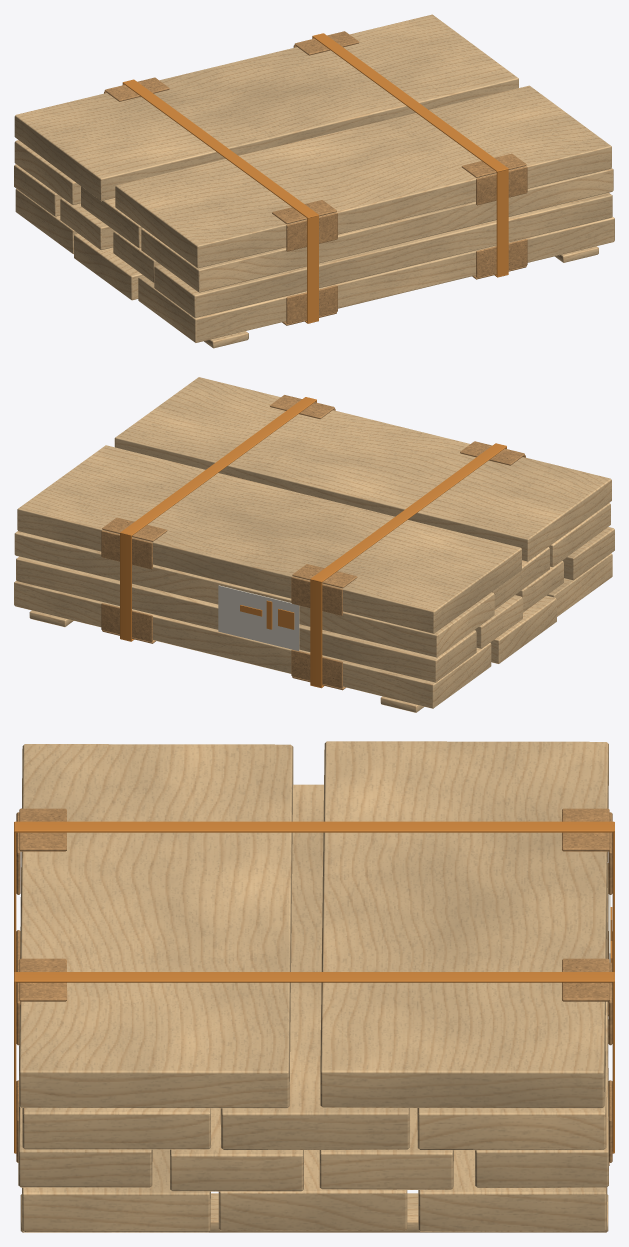
File: Holzpaket01.glb
3 views of the same model, one above another, from view 1: azimuth 30°, elevation 25°; view 2: azimuth 150°, elevation 25°; view 3: azimuth 270°, elevation 25° (orthographic). The views are drawn at different scales.
Parts seen in each view (by area): view 1: Holzpaket01__WoodRaw, Holzpaket01__SafetyOrange, Holzpaket01__Cardboard; view 2: Holzpaket01__WoodRaw, Holzpaket01__SafetyOrange, Holzpaket01__Cardboard, Holzpaket01__WallWhite; view 3: Holzpaket01__WoodRaw, Holzpaket01__SafetyOrange, Holzpaket01__Cardboard.
Part boxes in pixels (x1=…): Holzpaket01__WoodRaw: x1=14, y1=14, x2=614, y2=348; Holzpaket01__SafetyOrange: x1=122, y1=33, x2=508, y2=323; Holzpaket01__Cardboard: x1=104, y1=31, x2=527, y2=325; Holzpaket01__WoodRaw: x1=14, y1=377, x2=614, y2=712; Holzpaket01__SafetyOrange: x1=120, y1=397, x2=506, y2=688; Holzpaket01__Cardboard: x1=101, y1=395, x2=525, y2=690; Holzpaket01__WallWhite: x1=218, y1=585, x2=299, y2=650; Holzpaket01__WoodRaw: x1=18, y1=741, x2=608, y2=1232; Holzpaket01__SafetyOrange: x1=14, y1=821, x2=614, y2=1153; Holzpaket01__Cardboard: x1=16, y1=808, x2=612, y2=1165.
Size of the model in its own units: 0.5833 by 0.1448 by 0.4396.
Materials: 4 (2 with a texture image).
